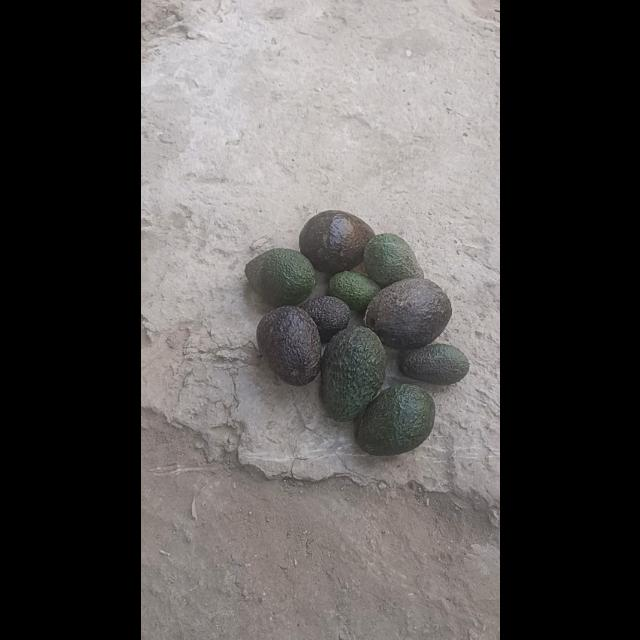Primera: (318, 325, 388, 419), (364, 276, 450, 348), (354, 383, 434, 455), (255, 304, 321, 384), (297, 210, 375, 274)
Segunda: (246, 247, 314, 306), (362, 232, 422, 288)
Tercera: (400, 343, 470, 385), (298, 294, 349, 342), (328, 270, 380, 314)
